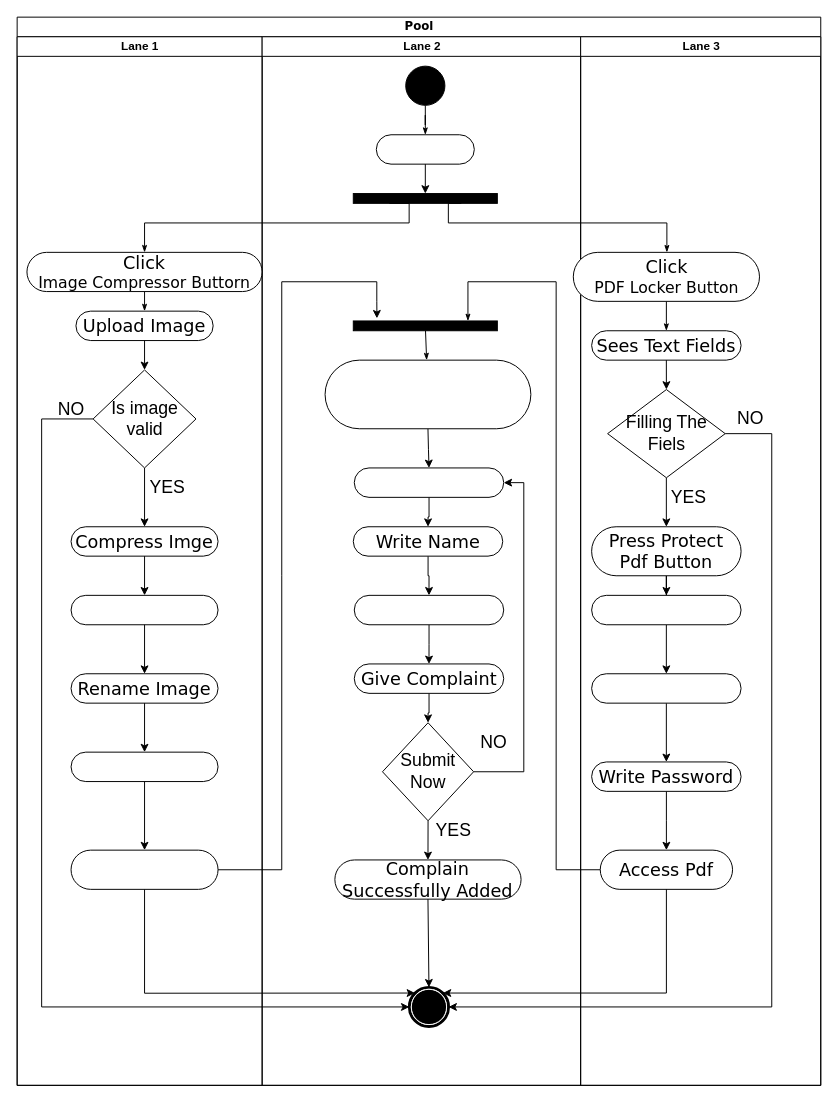
The diagram is 838 pixels wide and 1103 high, and some of its shapes have lost their labels. The shapes that lost their labels are listed below. From the top down, each one's centre as x and y in pixels, then its label:
[424,149]: Open Software
[427,394]: Click Complaint Management System Button
[428,482]: Gives Name
[144,609]: Preview Image
[428,609]: Write Addrss
[666,609]: Select Location
[666,688]: Open the Pdf
[144,766]: Browse Location
[144,869]: Save Image
